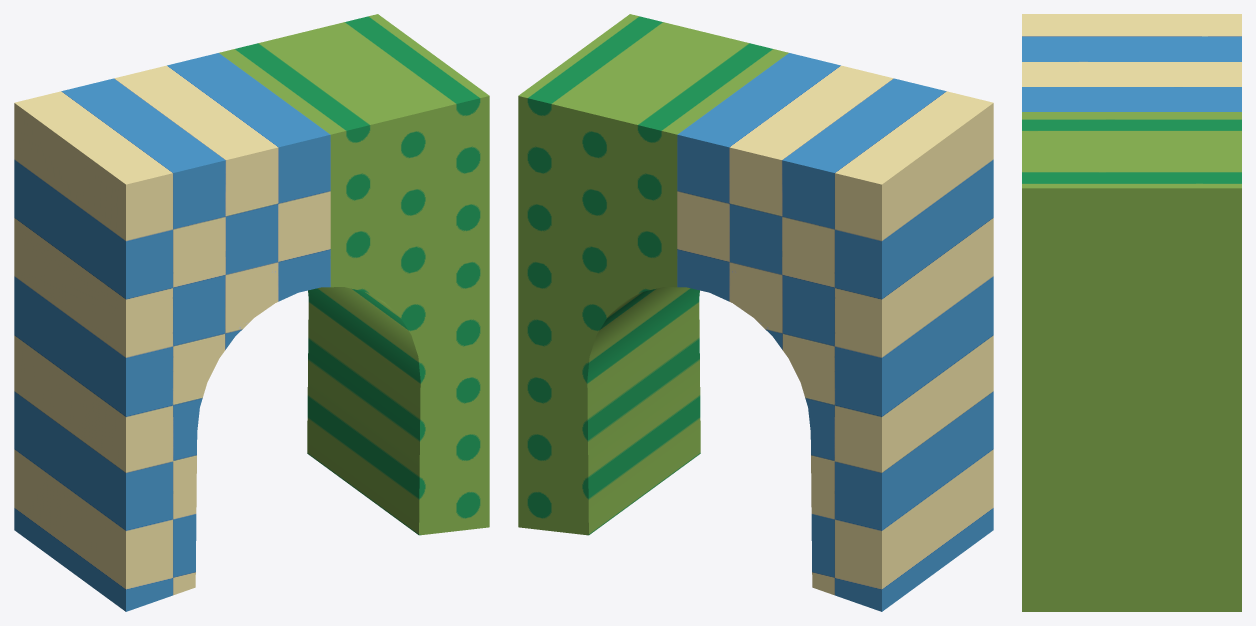
The model's file is M_bridge_02.fbx.
3 renders of one model, left to right at view 1: azimuth 30°, elevation 25°; view 2: azimuth 150°, elevation 25°; view 3: azimuth 270°, elevation 25°, orthographic.
Visible parts, largest first — view 1: Cube.019; view 2: Cube.019; view 3: Cube.019.
Boxes of the visible parts, x1=… form: Cube.019: x1=14, y1=14, x2=489, y2=611; Cube.019: x1=518, y1=14, x2=993, y2=611; Cube.019: x1=1022, y1=14, x2=1241, y2=611.
Size of the model in its own units: 353 by 400 by 188.
